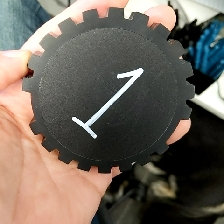gear: (20, 5, 196, 175)
missing: (155, 104, 194, 156), (20, 76, 45, 135)
